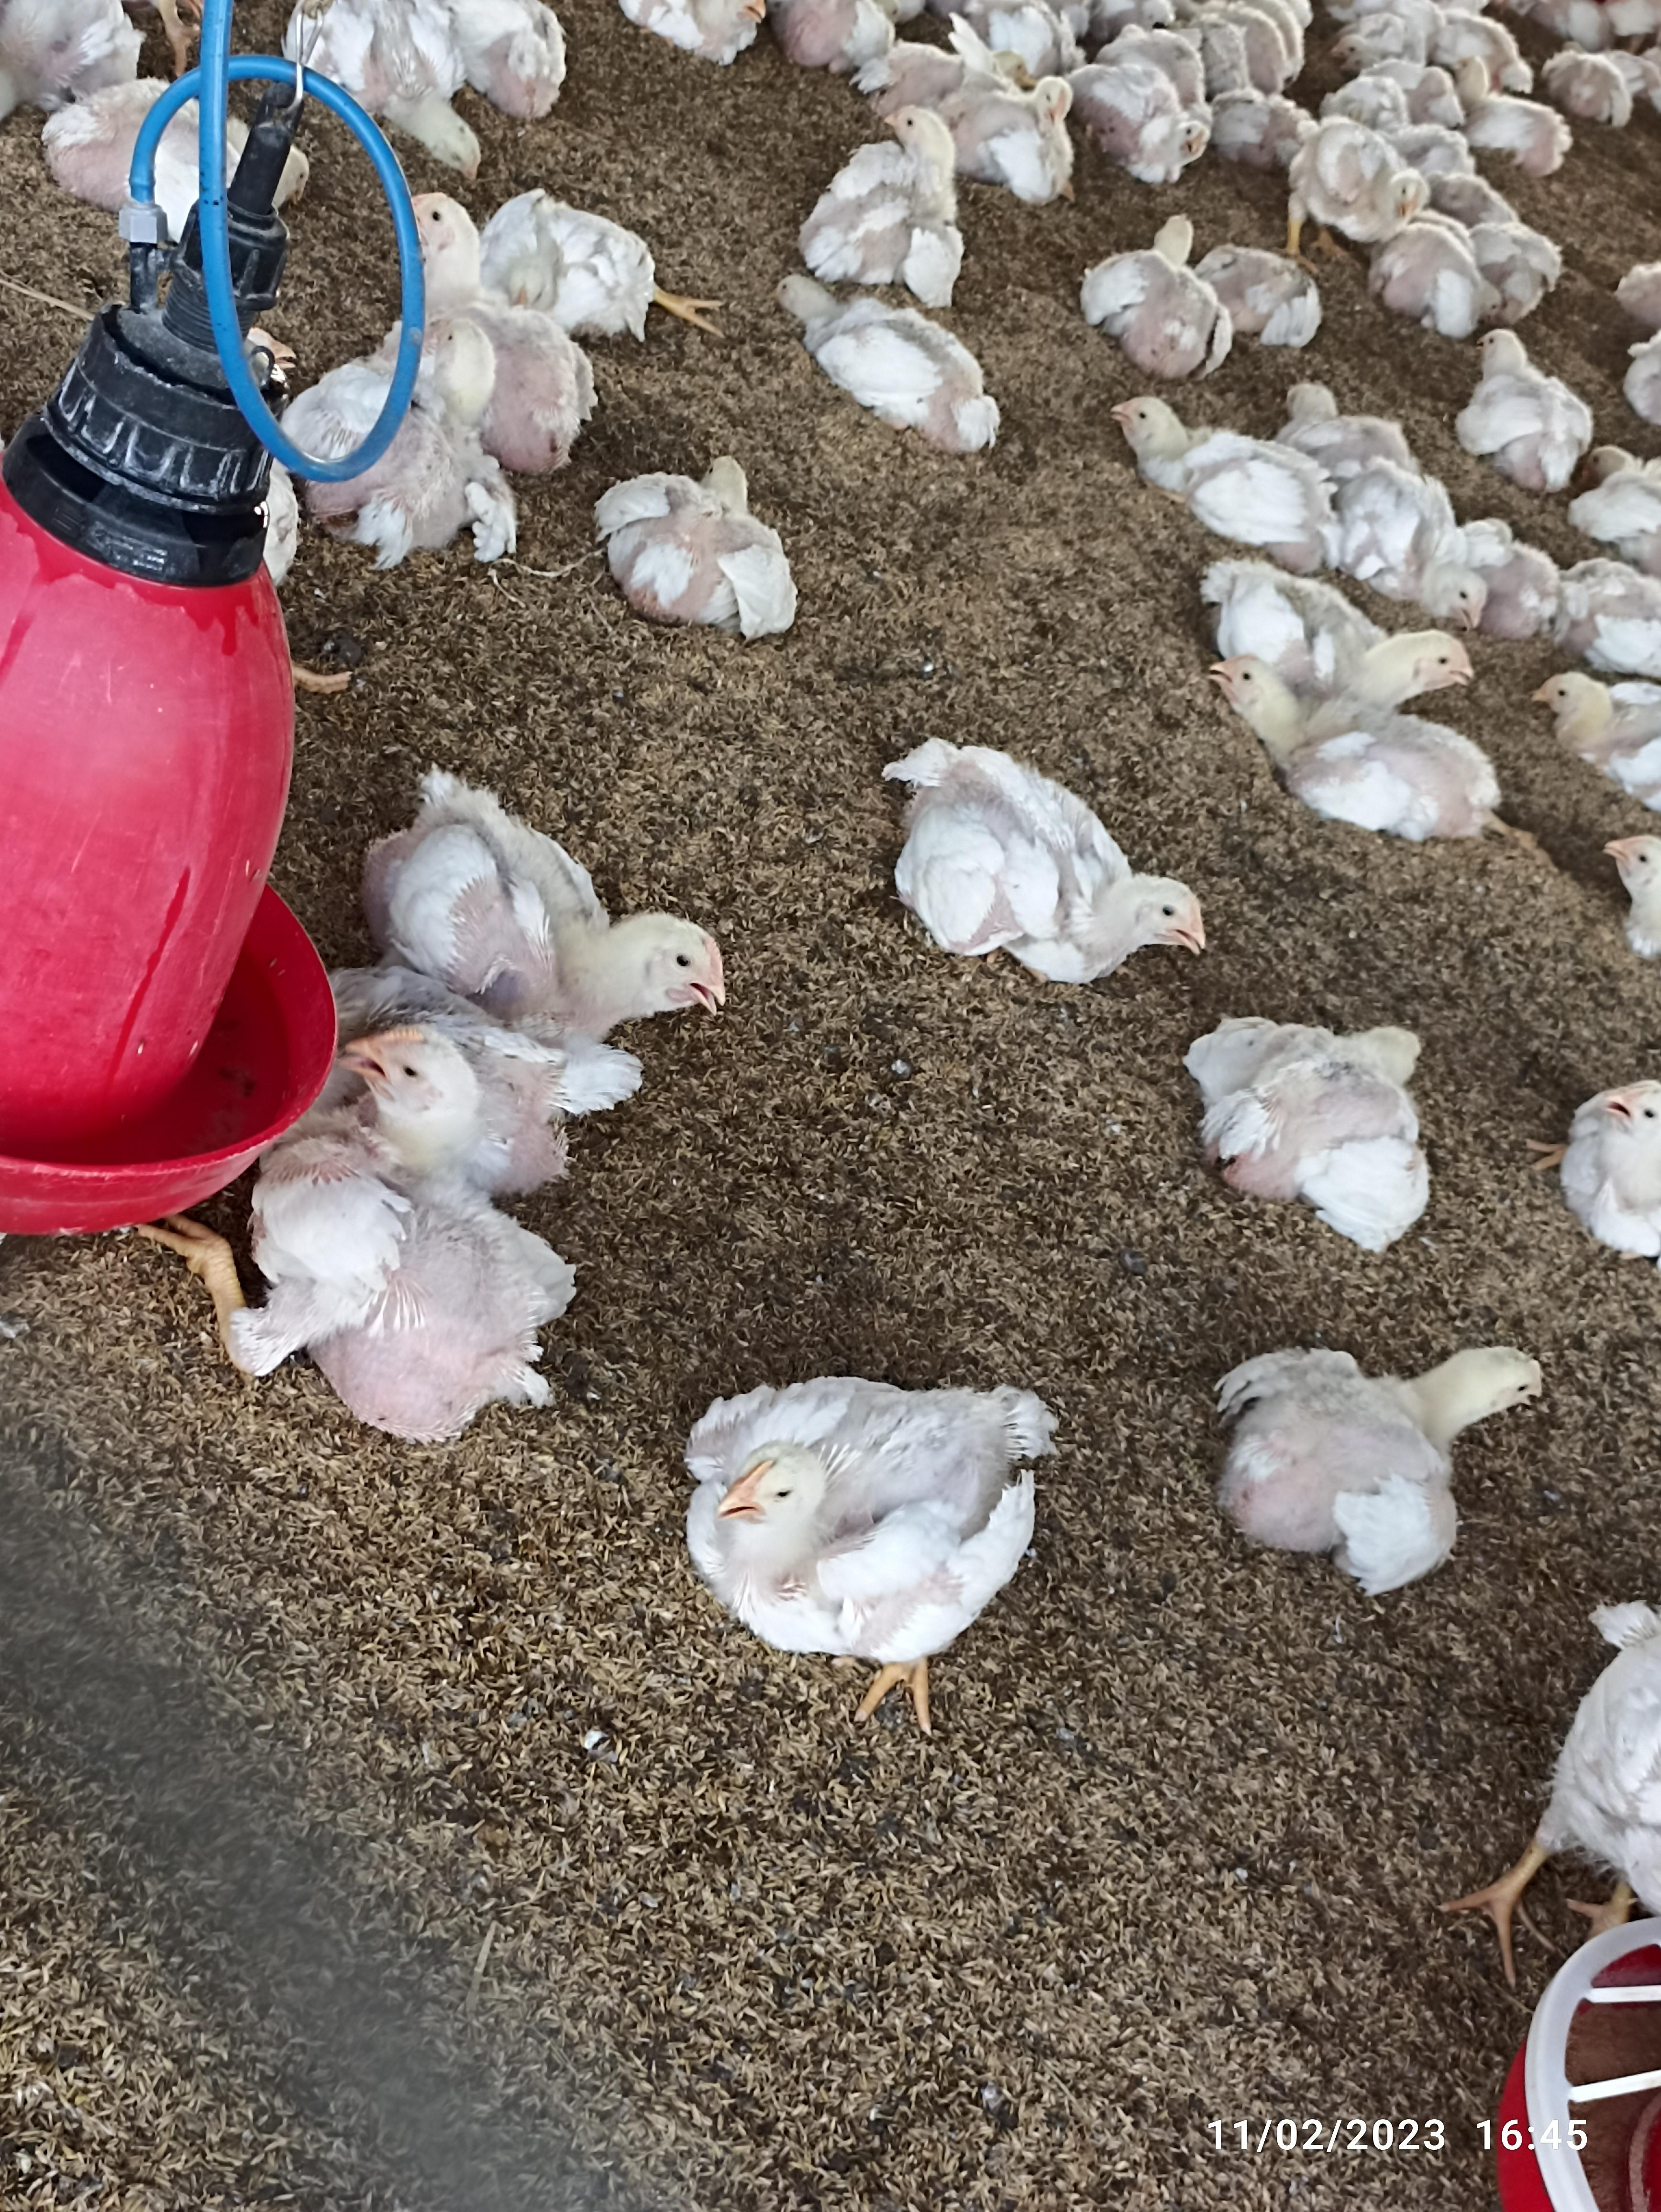Pollos: (670, 1380, 1064, 1659), (414, 769, 740, 1048), (883, 727, 1216, 994), (1202, 1338, 1553, 1582), (312, 1022, 518, 1436), (1209, 661, 1506, 857), (1195, 1015, 1439, 1228), (764, 263, 993, 462), (591, 438, 811, 637), (1118, 401, 1335, 563), (811, 94, 967, 267), (1462, 330, 1577, 509), (1097, 216, 1220, 368)
